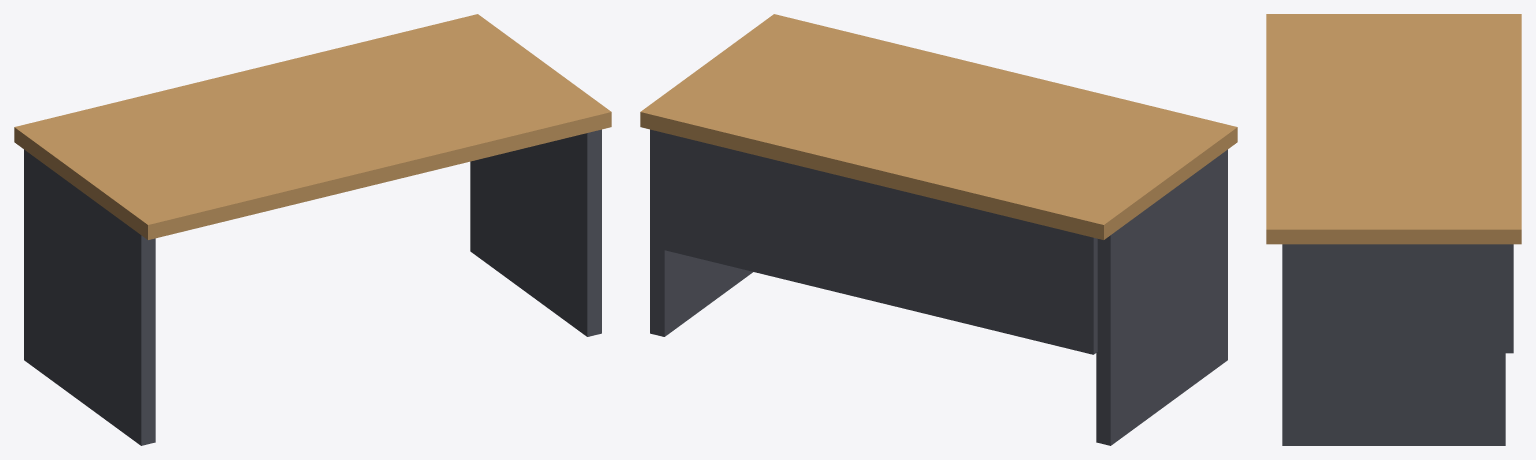
The model's file is office_desk.glb.
3 renders of one model, left to right at view 1: azimuth 30°, elevation 25°; view 2: azimuth 150°, elevation 25°; view 3: azimuth 270°, elevation 25°, orthographic. The views are drawn at different scales.
Parts seen in each view (by area): view 1: office_desk; view 2: office_desk; view 3: office_desk.
Part boxes in pixels (x1,y1,x2,y2): office_desk: [14, 14, 611, 445]; office_desk: [640, 14, 1237, 445]; office_desk: [1266, 14, 1521, 445].
Bounding box in the file's own units: 1.6 × 0.75 × 0.8.
